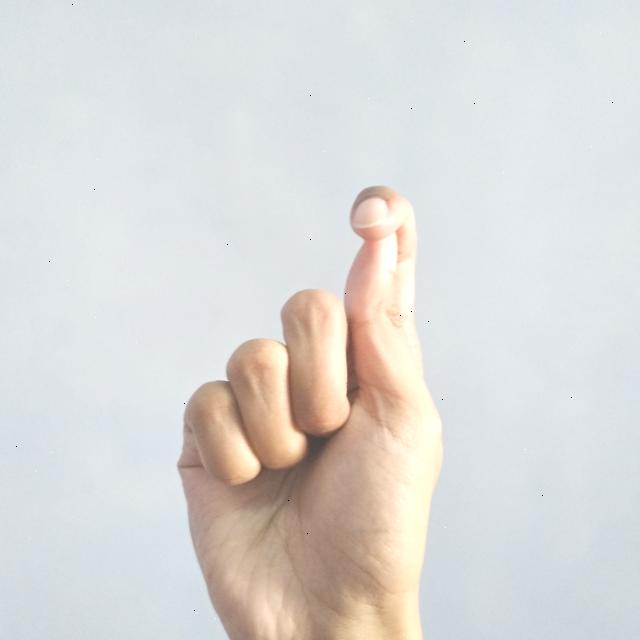T: (173, 178, 451, 640)
